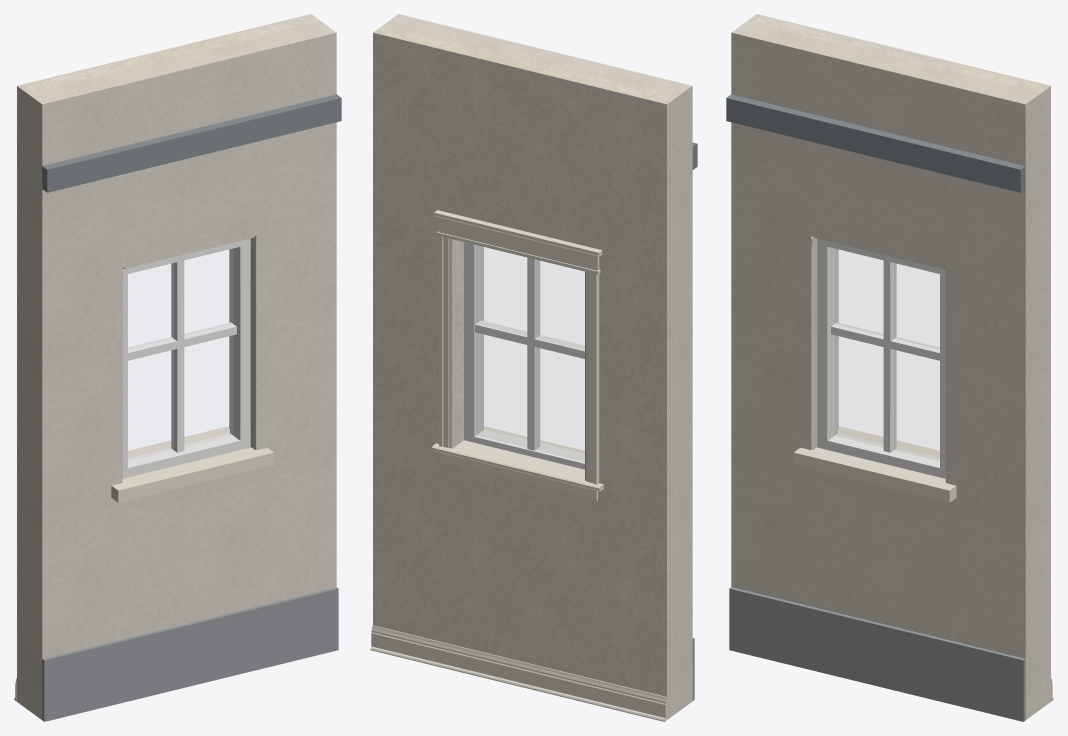
Rendered from wall_ground_window.glb.
The picture shows the model from 3 angles, left to right: view 1: azimuth 30°, elevation 25°; view 2: azimuth 150°, elevation 25°; view 3: azimuth 330°, elevation 25°; orthographic projection.
Parts seen in each view (by area): view 1: wall_ground_window_panel, wall_ground_window_coping, folha_glass, wall_ground_window_frame, wall_ground_window_shopframe, wall_ground_window_plaster, wall_ground_window_trim, molduras; view 2: wall_ground_window_plaster, molduras, wall_ground_window_panel, folha_glass, folha_frame, wall_ground_window_frame; view 3: wall_ground_window_panel, wall_ground_window_coping, folha_glass, wall_ground_window_frame, wall_ground_window_shopframe, wall_ground_window_plaster, wall_ground_window_trim, molduras.
Part boxes in pixels (x1,y1,x2,y2): wall_ground_window_panel: (18, 21, 336, 719); wall_ground_window_coping: (42, 587, 338, 721); folha_glass: (128, 249, 232, 460); wall_ground_window_frame: (122, 238, 250, 478); wall_ground_window_shopframe: (42, 94, 341, 192); wall_ground_window_plaster: (17, 14, 320, 702); wall_ground_window_trim: (111, 447, 274, 502); molduras: (14, 249, 229, 701); wall_ground_window_plaster: (373, 25, 676, 719); molduras: (370, 210, 666, 721); wall_ground_window_panel: (383, 14, 692, 718); folha_glass: (476, 246, 584, 461); folha_frame: (464, 242, 584, 469); wall_ground_window_frame: (474, 244, 584, 463); wall_ground_window_panel: (731, 21, 1049, 719); wall_ground_window_coping: (729, 587, 1025, 721); folha_glass: (835, 249, 939, 460); wall_ground_window_frame: (817, 238, 945, 478); wall_ground_window_shopframe: (726, 94, 1025, 192); wall_ground_window_plaster: (747, 14, 1050, 702); wall_ground_window_trim: (793, 447, 956, 502); molduras: (838, 249, 1053, 701).
Bounding box in the file's own units: 2 × 4 × 0.43.
Materials: 7 (2 with a texture image).
